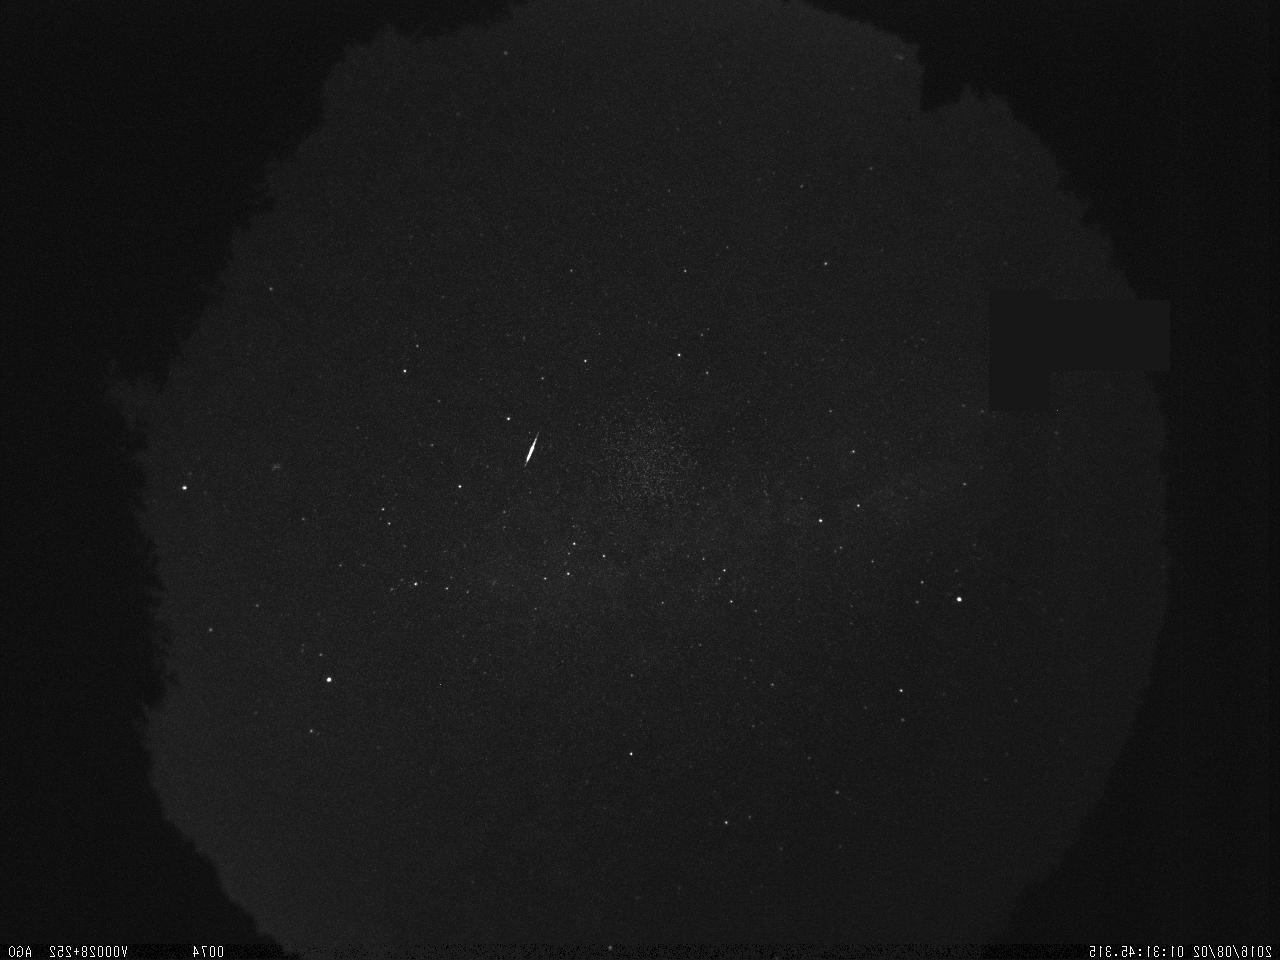meteor: (506, 423, 546, 476)
